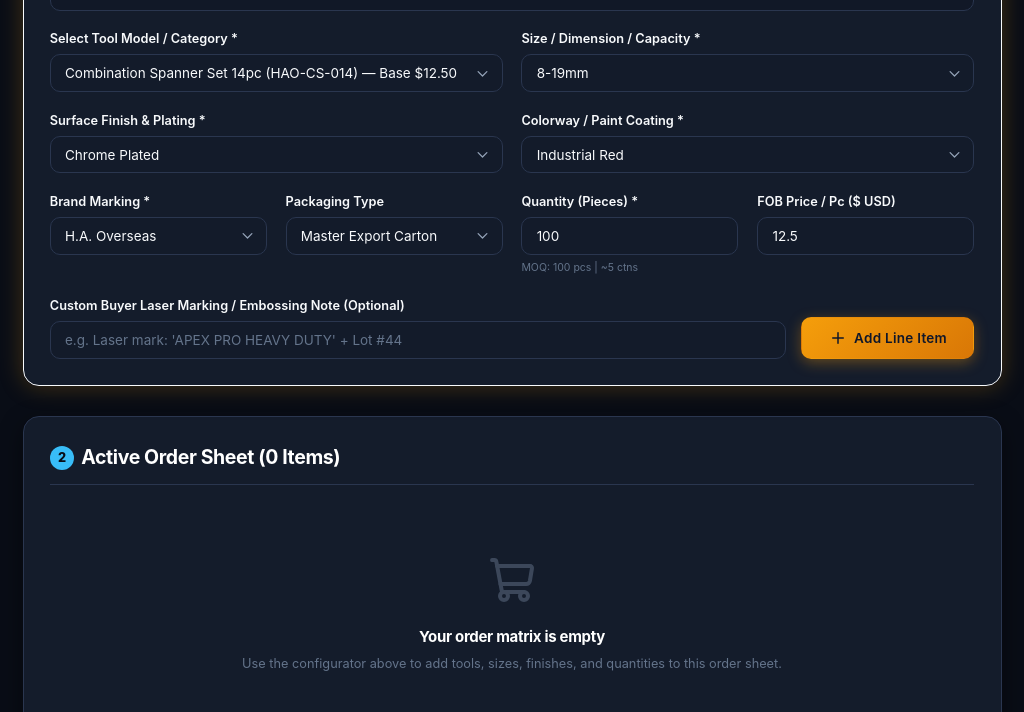
Order form saved-address picker (v0.5 F3) › fills the ship-to fields from a saved ship-to address, and bill-to from a bill-to one
(page scrolled)
Click the button "Add Line Item" at (888, 338), box [801,316,974,358]
(page scrolled)
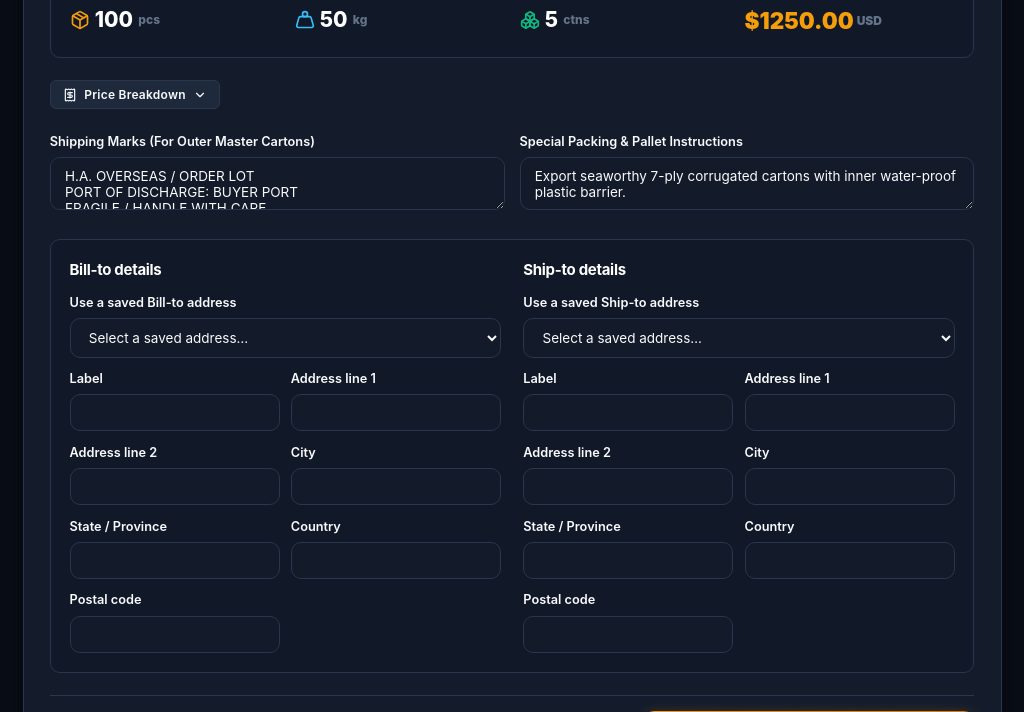
Check: the heading "Bill-to details" is shown, box [70,260,162,279]
Check: the heading "Ship-to details" is shown, box [523,260,626,279]
Select "Houston Warehouse — Houston, United States" in the dropdown labelled "Use a saved Ship-to address" at (739, 338), box [523,318,955,358]
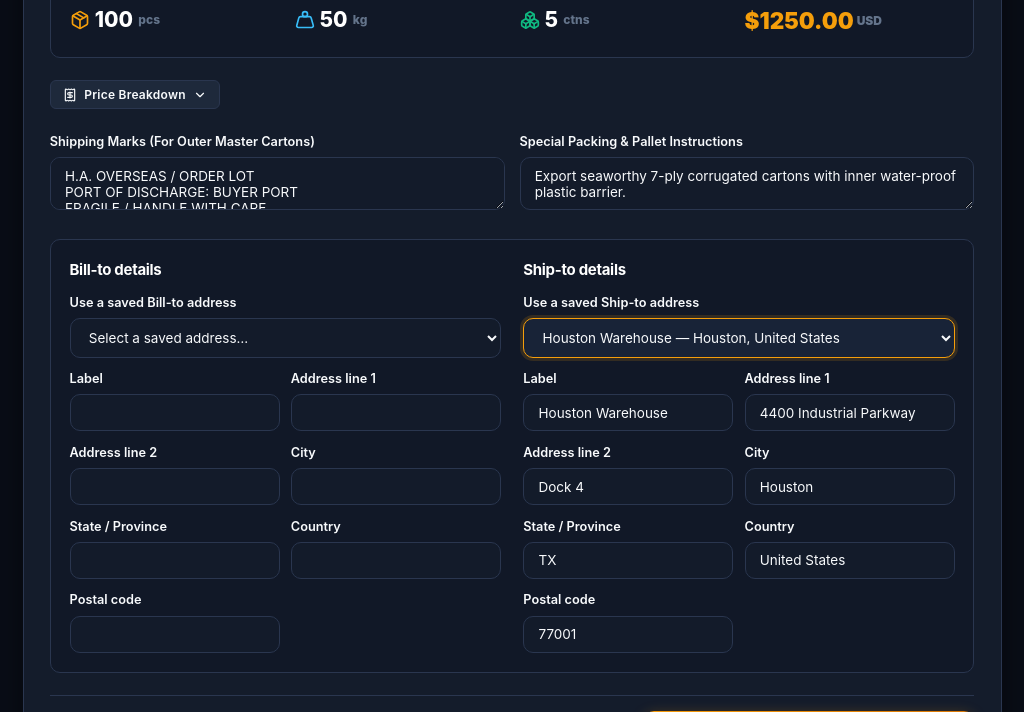
Check: the field with id "ship-to-line1" holds "4400 Industrial Parkway", box [744,394,954,431]
Check: the field with id "ship-to-line2" holds "Dock 4", box [523,468,733,505]
Check: the field with id "ship-to-city" holds "Houston", box [744,468,954,505]
Select "Head Office — Toronto, Canada" in the dropdown labelled "Use a saved Bill-to address" at (285, 338), box [70,318,501,358]
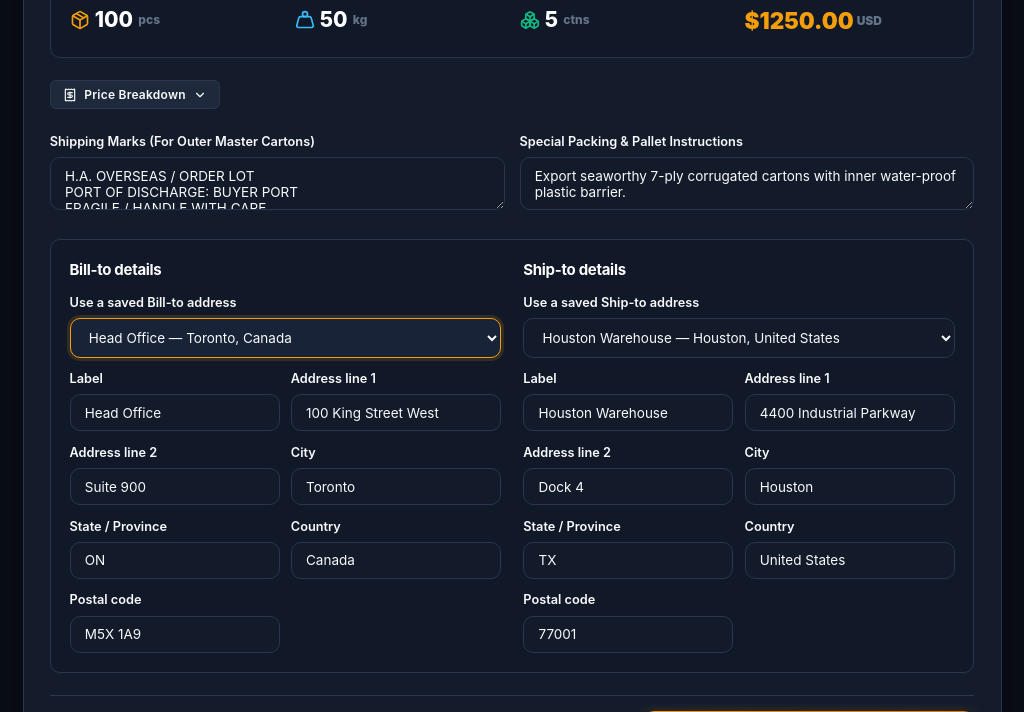
Check: the field with id "bill-to-line1" holds "100 King Street West", box [291,394,501,431]
Check: the field with id "bill-to-city" holds "Toronto", box [291,468,501,505]
Check: the field with id "bill-to-postalCode" holds "M5X 1A9", box [70,616,280,653]
